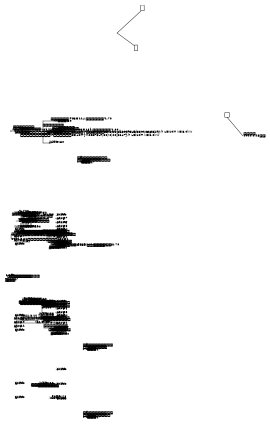corridor: (14, 84, 32, 88)
room: (14, 84, 32, 88), (1, 173, 9, 177), (249, 303, 255, 308), (151, 418, 155, 424), (144, 375, 148, 381)
wall: (124, 394, 152, 418), (252, 283, 270, 303), (124, 380, 144, 394), (17, 88, 26, 89)
